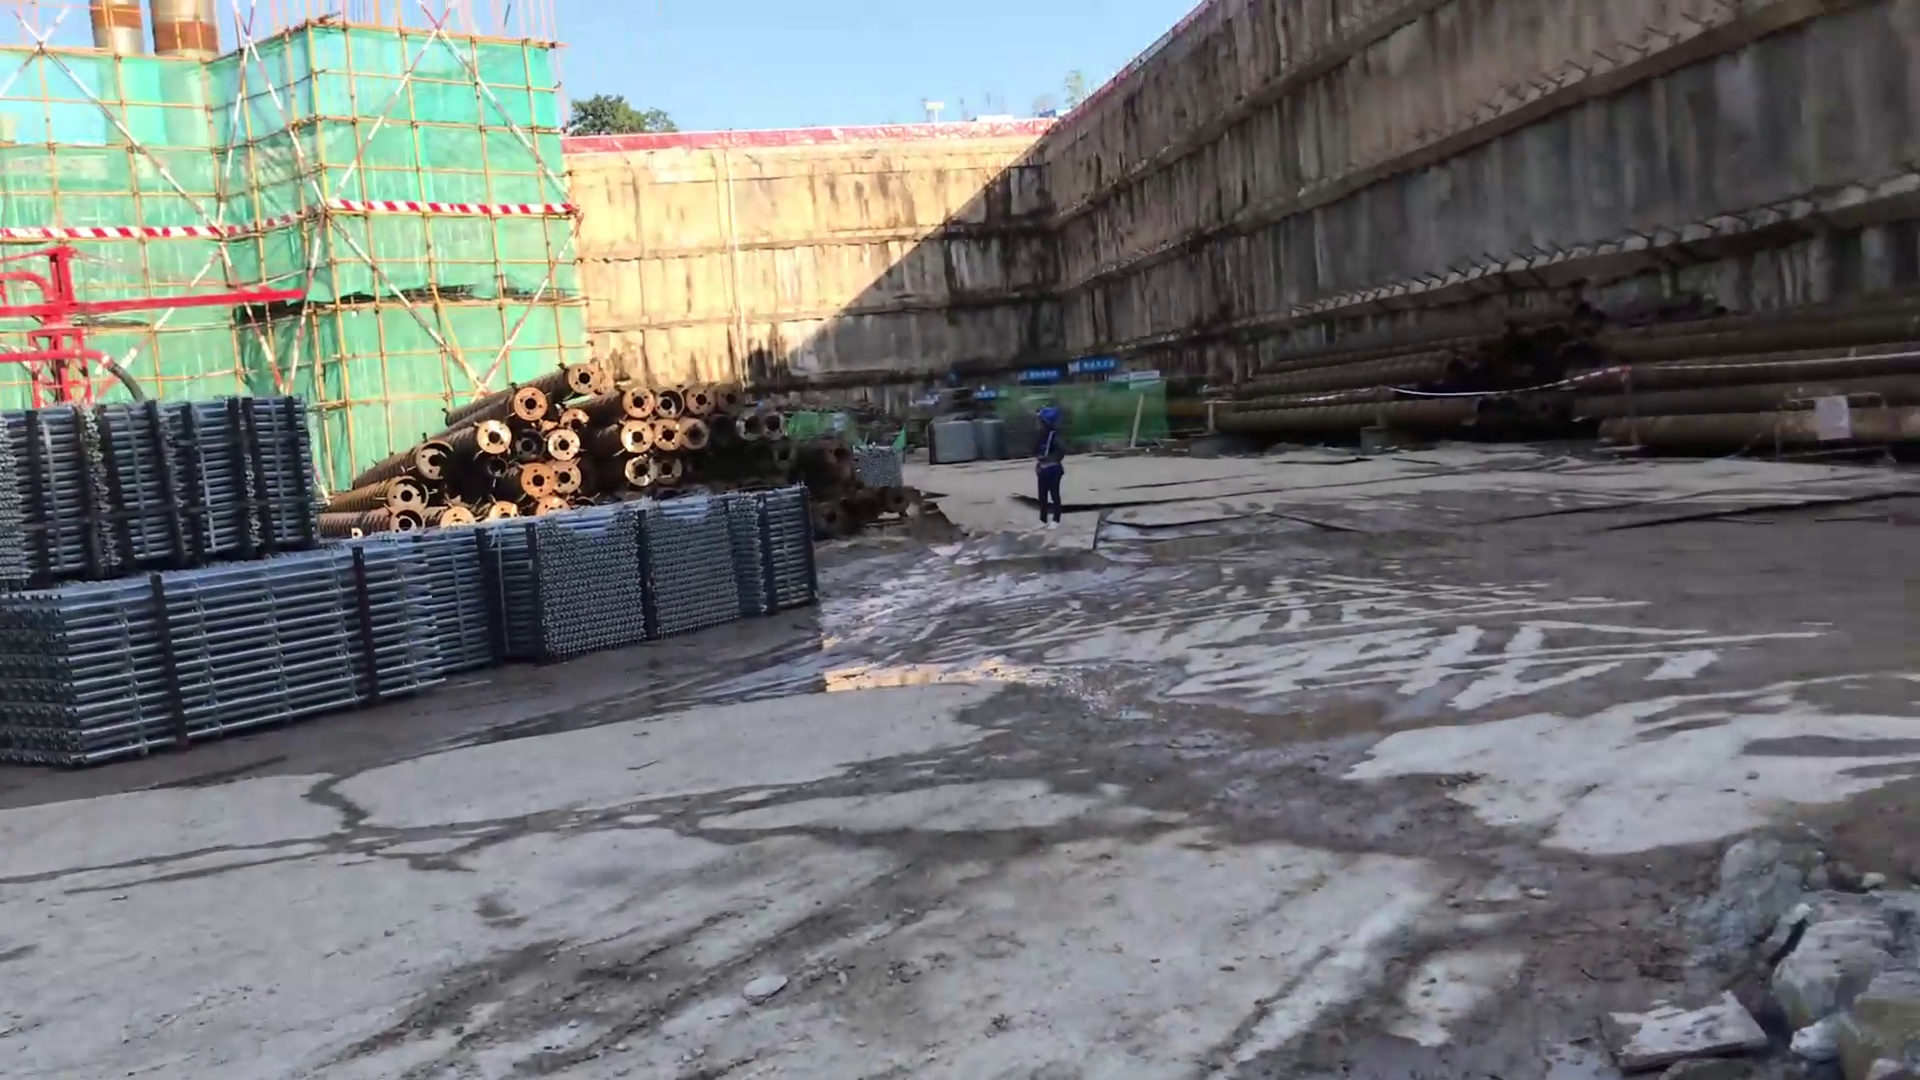helmet: (1033, 406, 1061, 429)
person: (1024, 402, 1074, 526)
scaffold: (14, 581, 454, 750), (432, 519, 806, 646), (1, 405, 288, 557)
vest: (1036, 440, 1062, 473)
